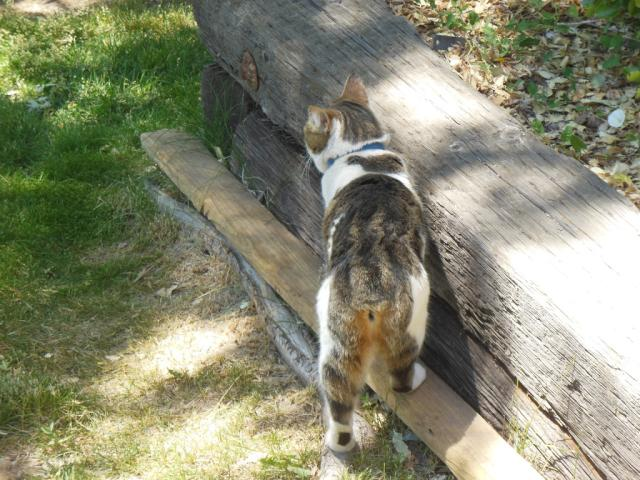Cat: (301, 72, 432, 451)
